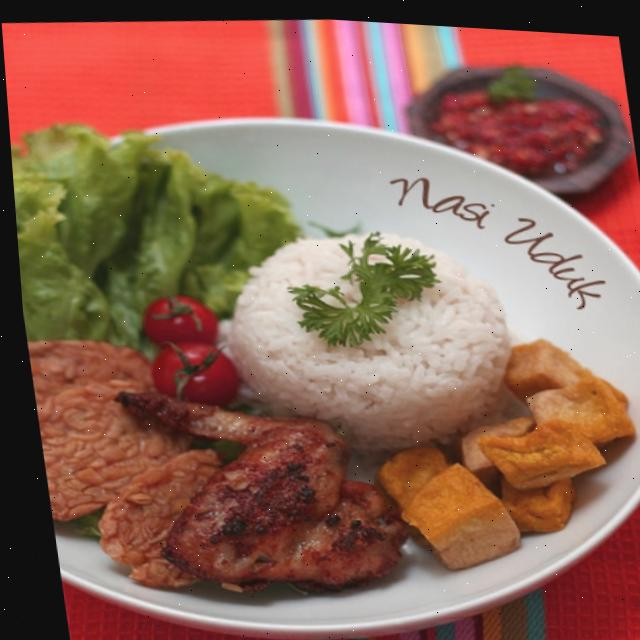米饭主食: (2, 29, 640, 640)
